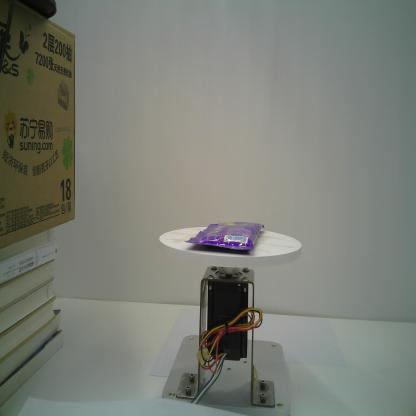Candy: (183, 221, 266, 251)
